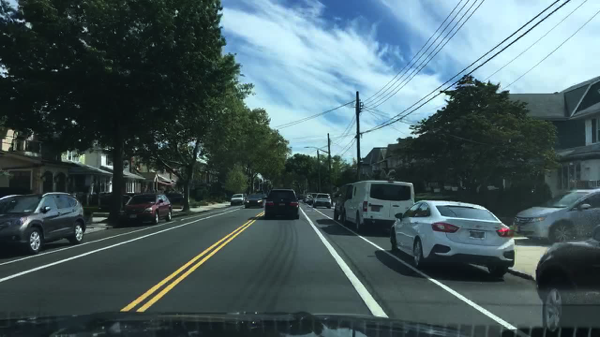car: (389, 200, 514, 278), (534, 223, 599, 337), (0, 192, 88, 255), (511, 190, 599, 245), (118, 194, 172, 226), (263, 191, 302, 219), (242, 195, 265, 209), (312, 195, 331, 208), (229, 194, 246, 207), (308, 198, 316, 206), (305, 194, 310, 205)
truck: (343, 181, 415, 233), (331, 184, 352, 221)
